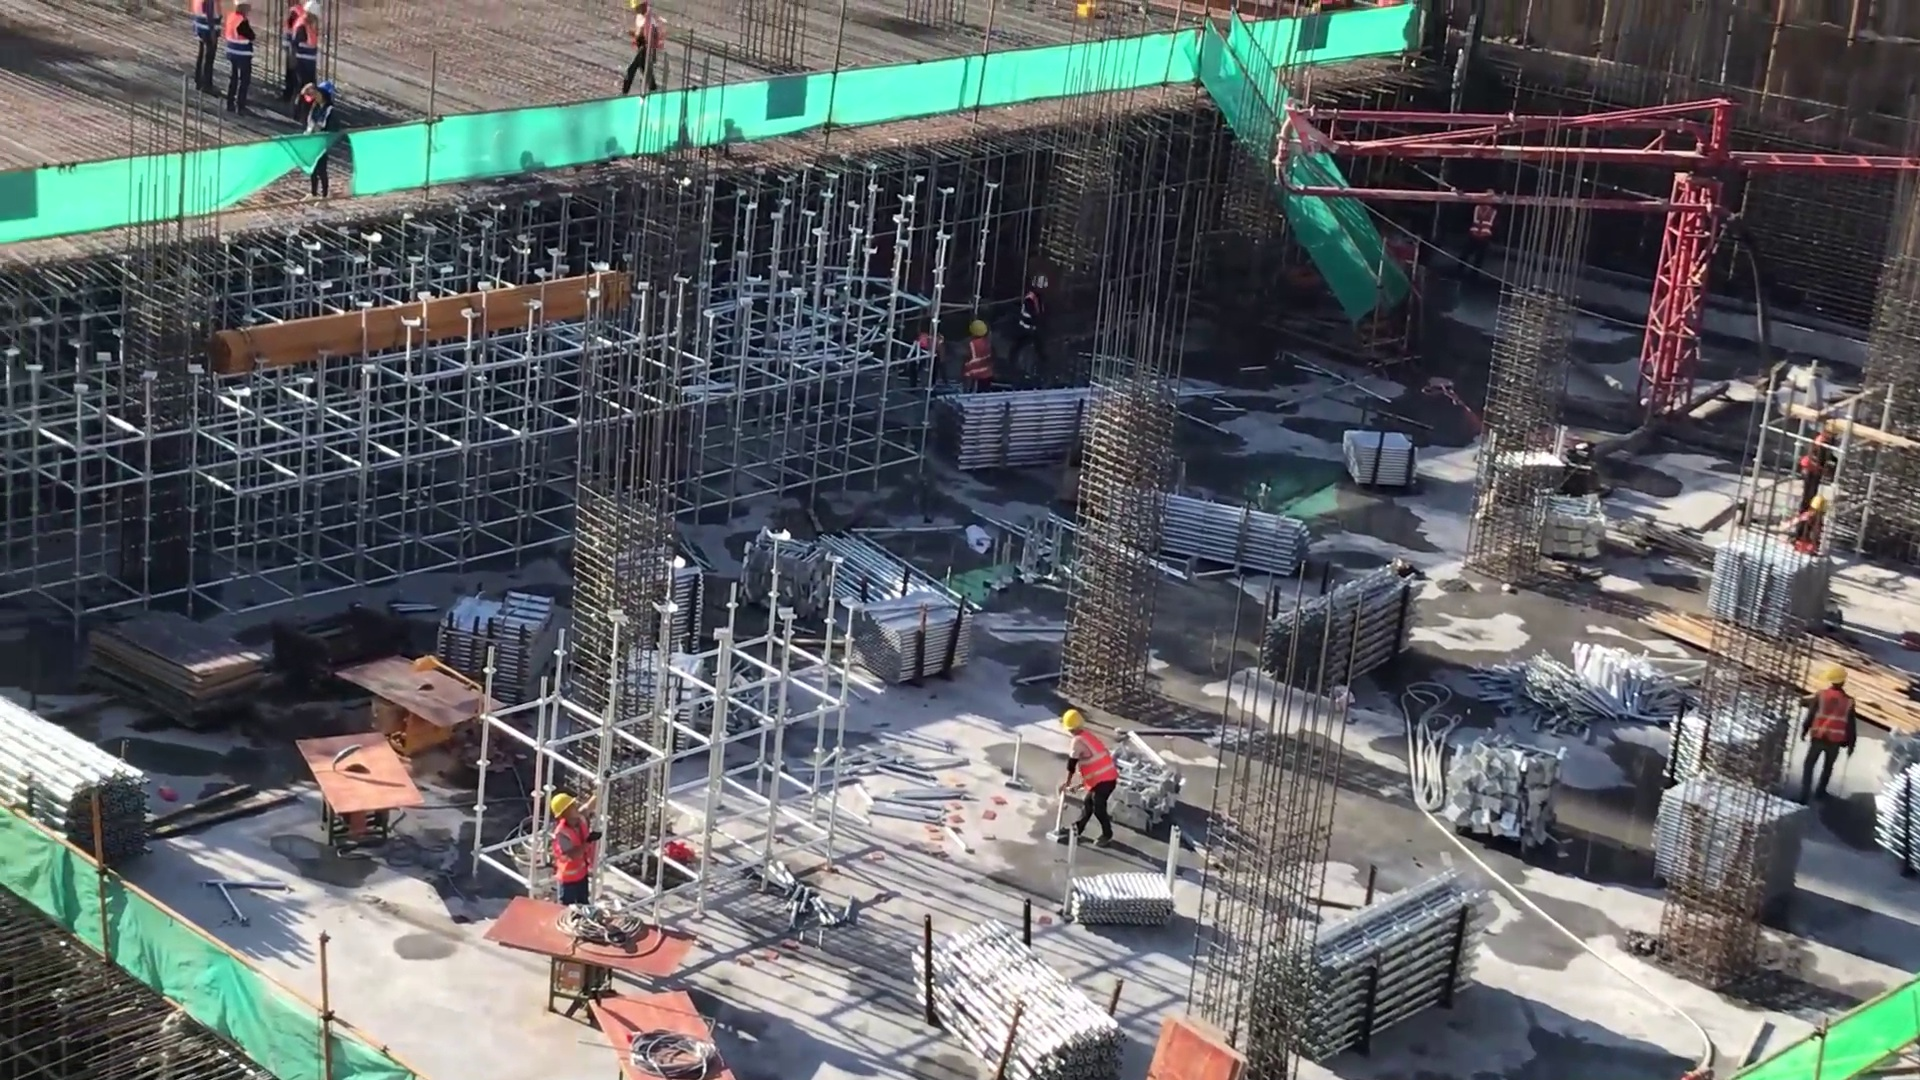board: (71, 603, 273, 725)
helmet: (1058, 702, 1088, 740), (548, 794, 579, 815), (1826, 668, 1850, 691), (967, 317, 988, 332)
person: (1802, 665, 1859, 810), (1059, 711, 1115, 850), (550, 791, 602, 912), (219, 11, 257, 118), (617, 6, 660, 103), (283, 5, 323, 103), (962, 313, 1003, 389), (188, 1, 220, 95)
scaffold: (1251, 863, 1487, 1061), (902, 918, 1133, 1080), (1256, 565, 1419, 688), (1122, 477, 1317, 580), (932, 377, 1113, 478), (436, 589, 565, 696), (861, 588, 980, 687), (1063, 860, 1176, 932)
vest: (553, 814, 589, 891), (1803, 686, 1847, 749), (1072, 742, 1121, 792)
